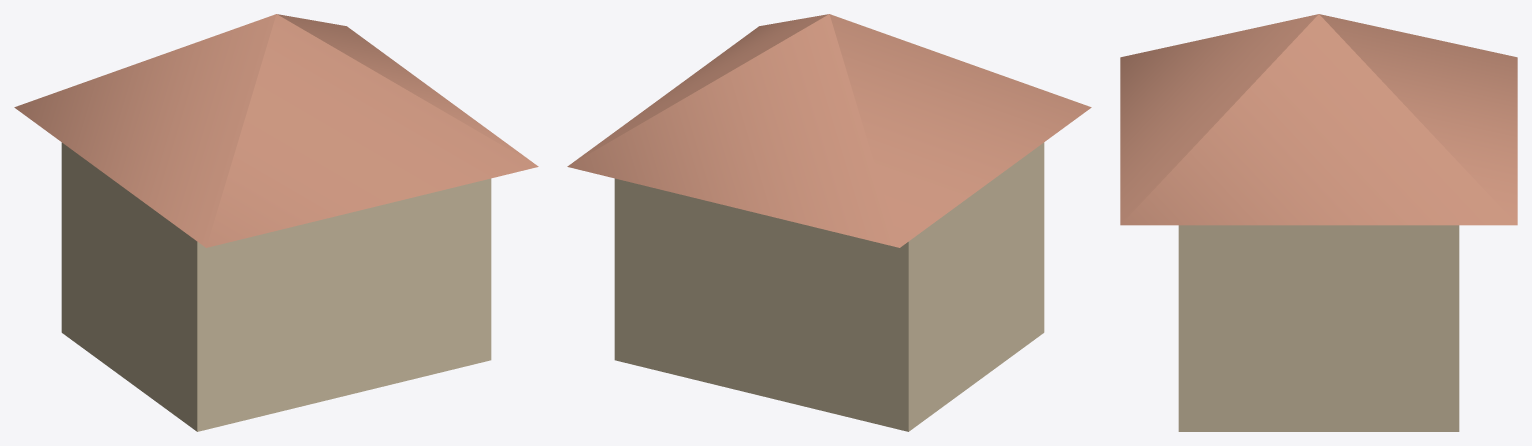
The picture shows the model from 3 angles, left to right: view 1: azimuth 30°, elevation 25°; view 2: azimuth 150°, elevation 25°; view 3: azimuth 270°, elevation 25°; orthographic projection. The views are drawn at different scales.
Bounding box in the file's own units: 5.66 × 5.4 × 5.66.
